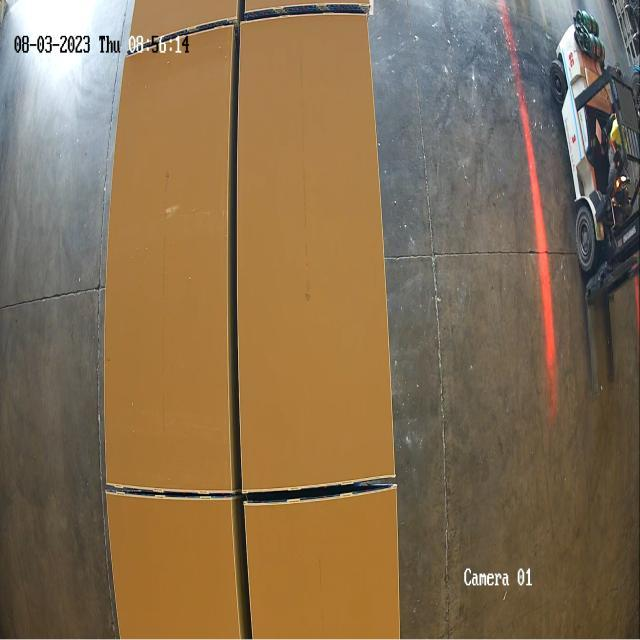forklift: (548, 3, 640, 308)
